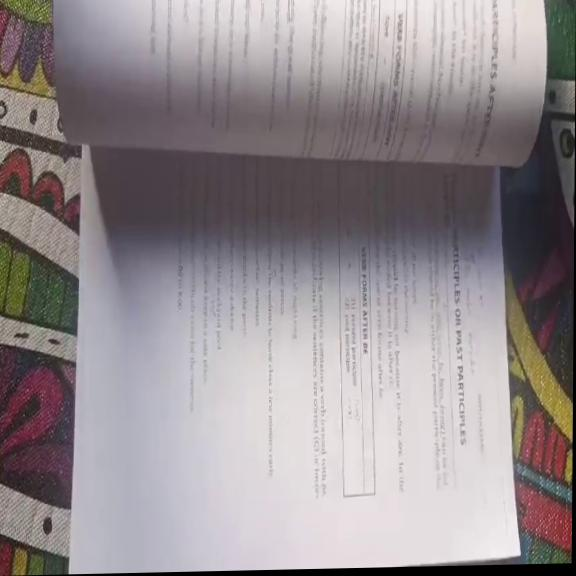Kertas: (77, 135, 512, 571)
